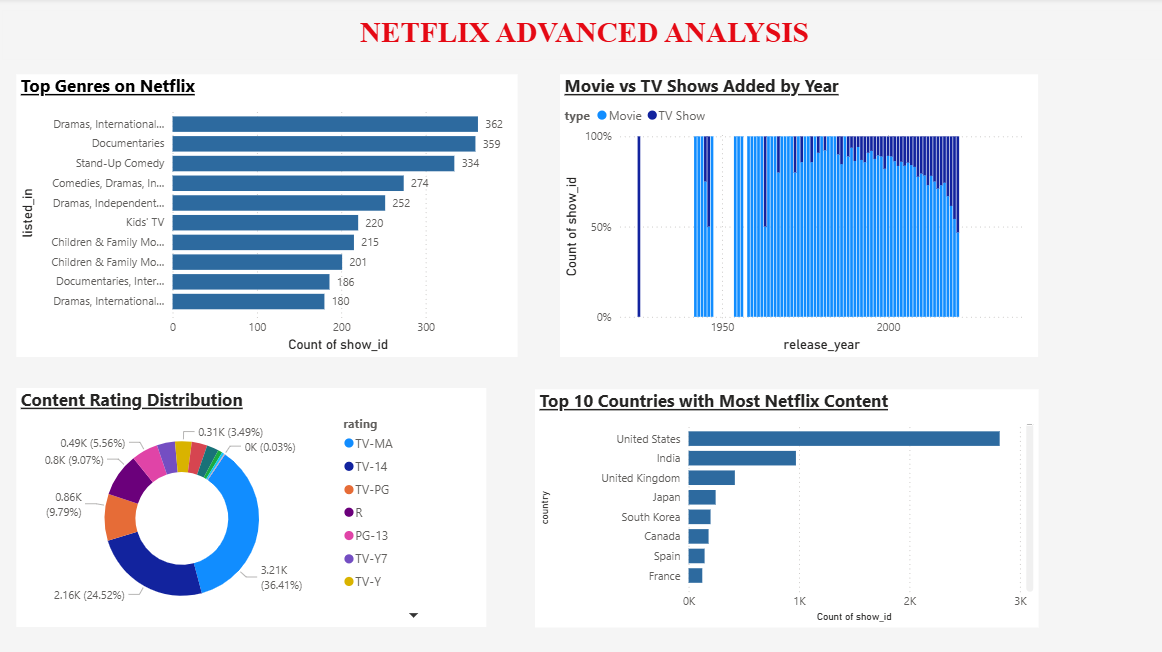

Layout of this report page (visuals, bound fields, positions):
{"tool":"powerbi","page":{"name":"Page 2","canvas":[1280,720],"ordinal":1},"visuals":[{"type":"clusteredBarChart","title":"Top Genres on Netflix","fields":{"Category":["netflix_titles.listed_in"],"Y":["CountNonNull(netflix_titles.show_id)"]},"box":[17.5,83.8,550,310],"z":0},{"type":"textbox","box":[2.7,13.7,1277.5,53.5],"z":1000},{"type":"donutChart","title":"Content Rating Distribution","fields":{"Category":["netflix_titles.rating"],"Y":["CountNonNull(netflix_titles.show_id)"]},"box":[17.8,428.1,516,262.1],"z":2000},{"type":"hundredPercentStackedColumnChart","title":"Movie vs TV Shows Added by Year","fields":{"Category":["netflix_titles.release_year"],"Series":["netflix_titles.type"],"Y":["CountNonNull(netflix_titles.show_id)"]},"box":[615,83.8,525,310],"z":3000},{"type":"clusteredBarChart","title":"Top 10 Countries with Most Netflix Content","fields":{"Y":["CountNonNull(netflix_titles.show_id)"],"Category":["netflix_titles.country"]},"box":[587.5,430,552.5,261.2],"z":4000}]}

Visuals, with their boxes in screenshot pixels (x1, y1, x2, y2), scaled from the page's 1280x720 canvas onto the 1162x652 screenshot:
"Top Genres on Netflix" clusteredBarChart: 16,76,515,357
textbox: 2,12,1161,61
"Content Rating Distribution" donutChart: 16,388,485,625
"Movie vs TV Shows Added by Year" hundredPercentStackedColumnChart: 558,76,1035,357
"Top 10 Countries with Most Netflix Content" clusteredBarChart: 533,389,1035,626
